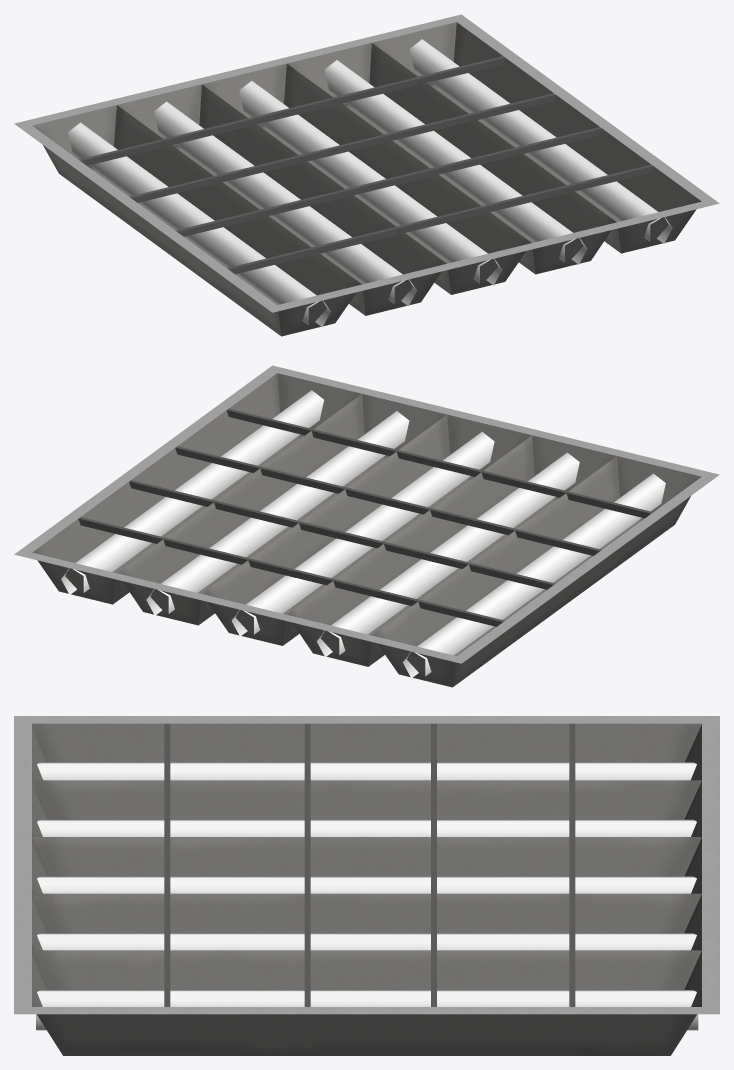
File: ceiling light1.FBX
3 renders of one model, top to bottom at view 1: azimuth 30°, elevation 25°; view 2: azimuth 150°, elevation 25°; view 3: azimuth 270°, elevation 25°, orthographic. The views are drawn at different scales.
Parts seen in each view (by area): view 1: ceiling light1; view 2: ceiling light1; view 3: ceiling light1.
Part boxes in pixels (x1,y1,x2,y2): ceiling light1: (14,14,719,336); ceiling light1: (14,365,719,687); ceiling light1: (14,716,719,1055).
Bounding box in the file's own units: 27.5 × 27.5 × 2.55.
